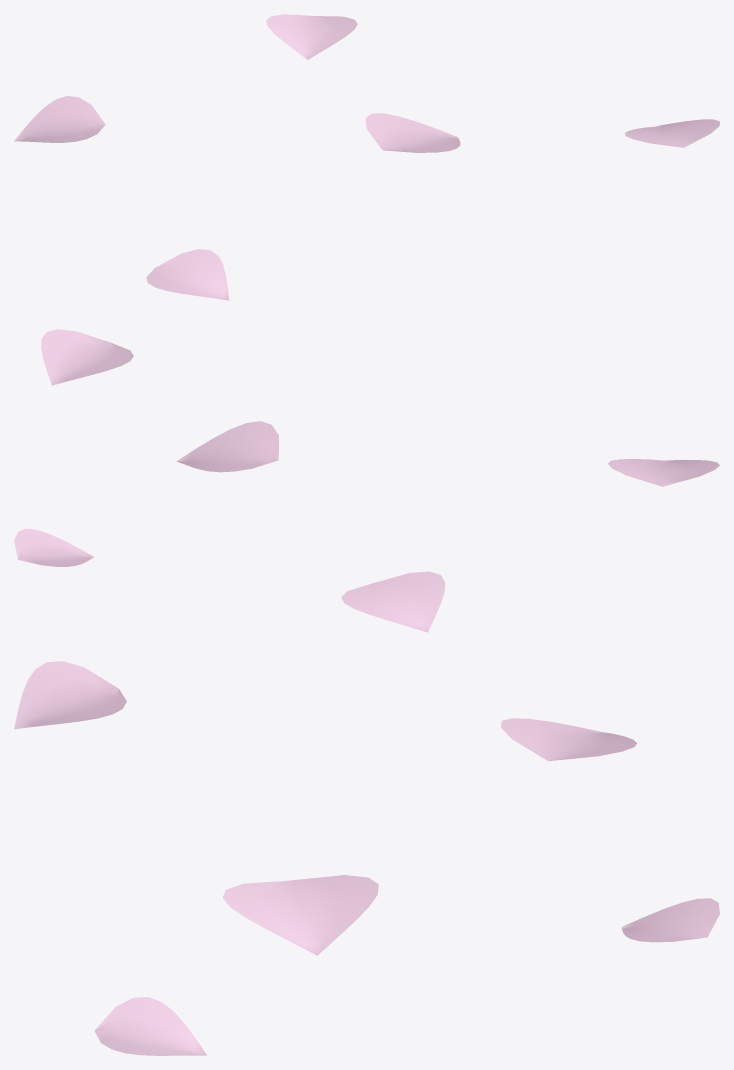
File: floating_petals.glb
The picture shows the model from 3 angles, top to bottom: view 1: azimuth 30°, elevation 25°; view 2: azimuth 150°, elevation 25°; view 3: azimuth 270°, elevation 25°; orthographic projection. The views are drawn at different scales.
Parts seen in each view (by area): view 1: SM_Forest_FloatingPetals; view 2: SM_Forest_FloatingPetals; view 3: SM_Forest_FloatingPetals.
Part boxes in pixels (box(x1,y1,x2,y2)): SM_Forest_FloatingPetals: box(14, 14, 719, 300); SM_Forest_FloatingPetals: box(14, 329, 719, 632); SM_Forest_FloatingPetals: box(14, 661, 719, 1055).
Bounding box in the file's own units: 1.51 × 0.0544 × 1.15.
